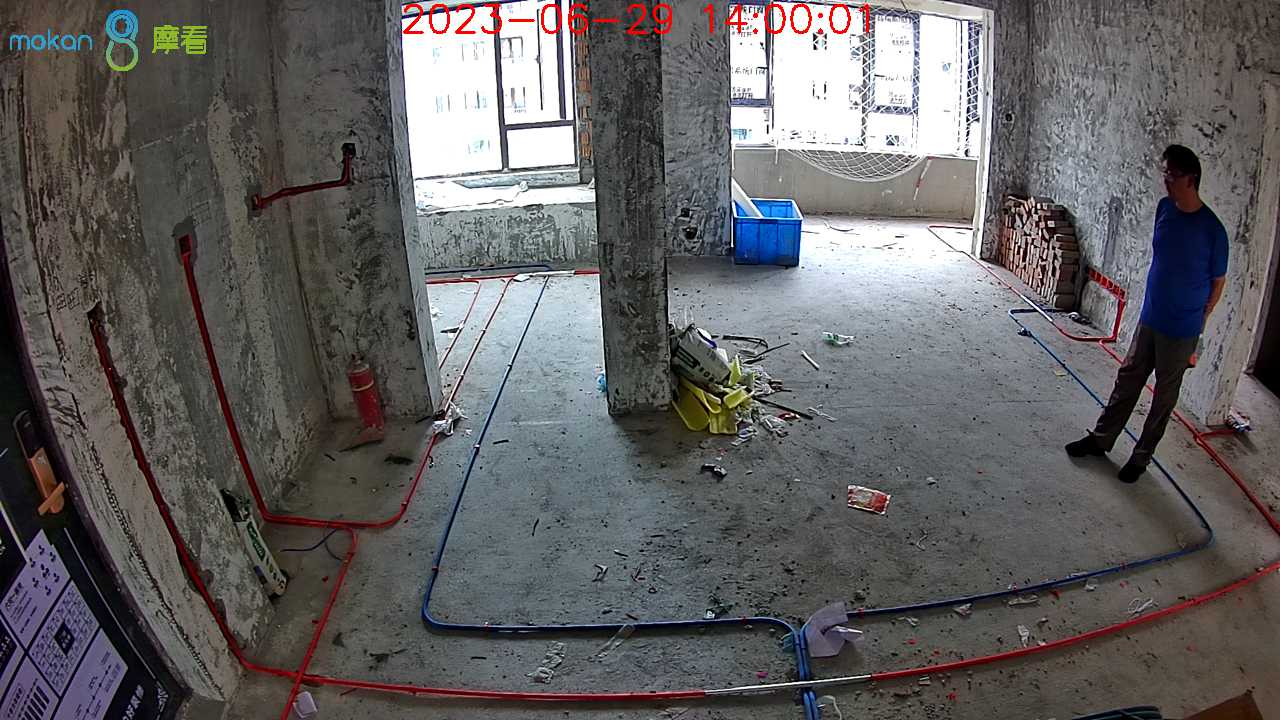people: (1073, 146, 1230, 487)
window: (728, 5, 987, 157), (393, 5, 577, 173)
